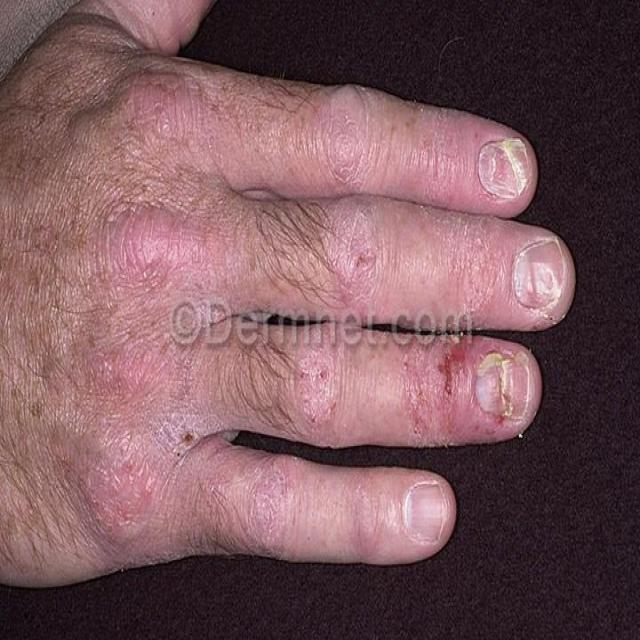Eczema: (50, 67, 515, 543)
